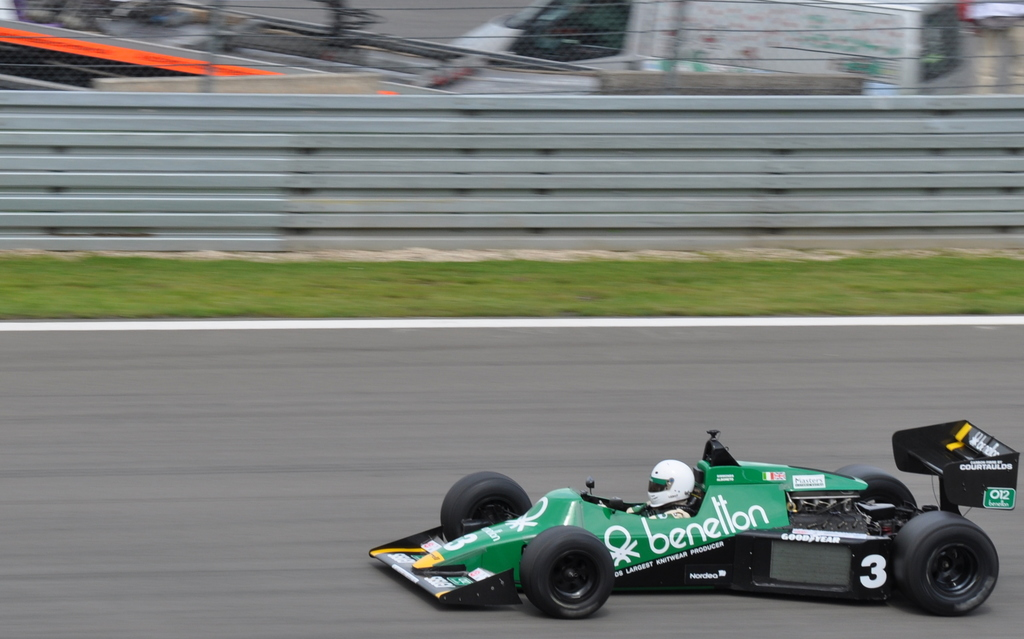Car: (376, 446, 1024, 626)
